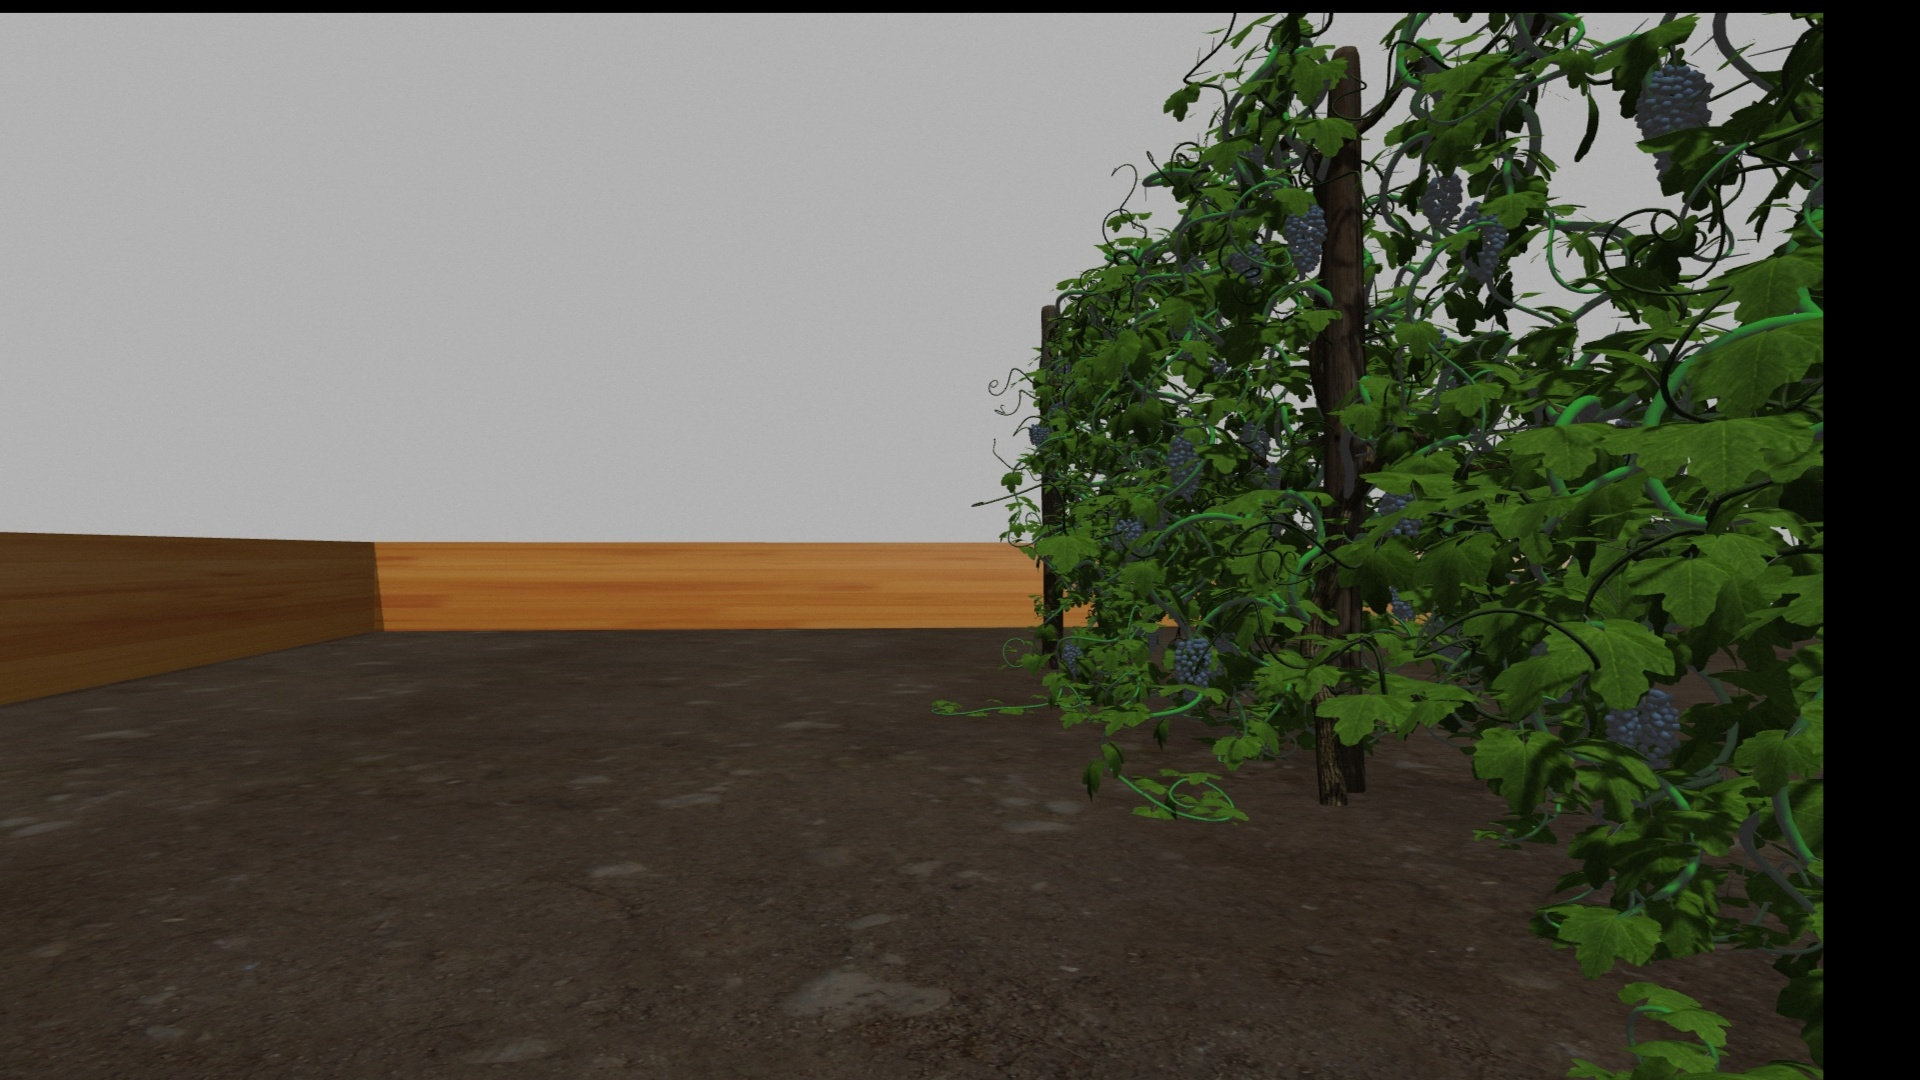grape: (1633, 66, 1712, 167), (1455, 200, 1505, 280), (1283, 204, 1328, 280), (1639, 690, 1681, 761), (1423, 171, 1464, 229), (1167, 436, 1201, 498), (1175, 638, 1213, 692), (1604, 704, 1640, 753), (1229, 243, 1265, 284), (1062, 644, 1085, 674), (1027, 419, 1051, 446), (1116, 517, 1142, 541)
